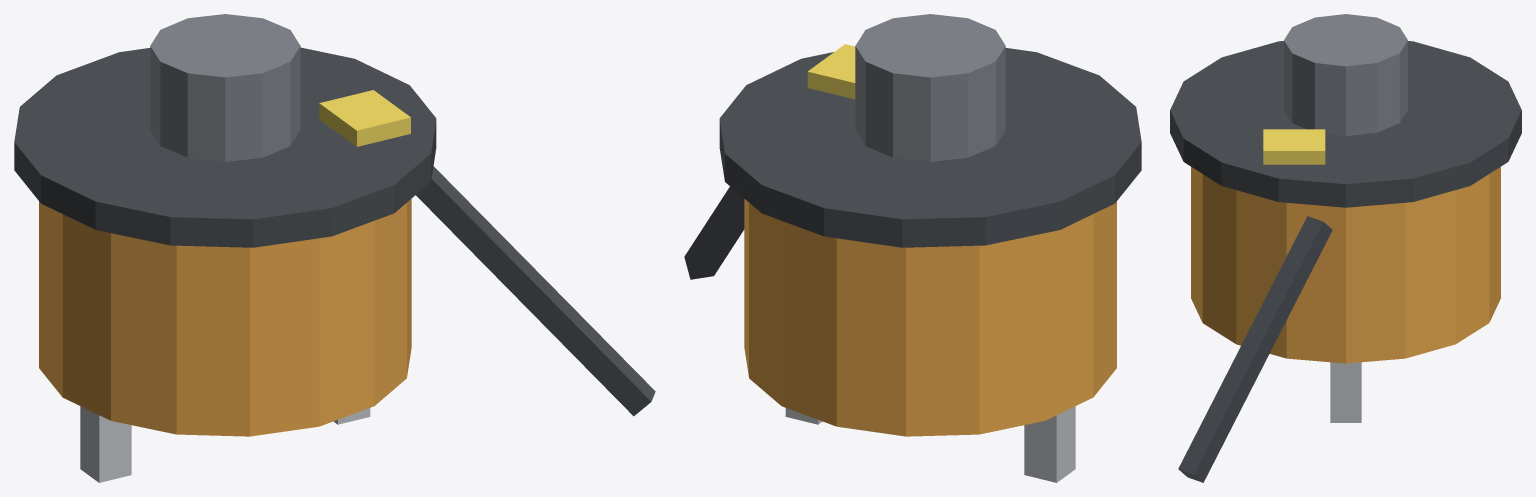
Rendered from cable-reel.glb.
3 views of the same model, side by side, from view 1: azimuth 30°, elevation 25°; view 2: azimuth 150°, elevation 25°; view 3: azimuth 270°, elevation 25° (orthographic). The views are drawn at different scales.
Visible parts, largest first — view 1: cable-reel; view 2: cable-reel; view 3: cable-reel.
Part boxes in pixels (x1,y1,x2,y2): cable-reel: (14,14,655,482); cable-reel: (684,14,1141,482); cable-reel: (1170,14,1521,482).
Size of the model in its own units: 0.9638 by 0.7 by 0.68.
